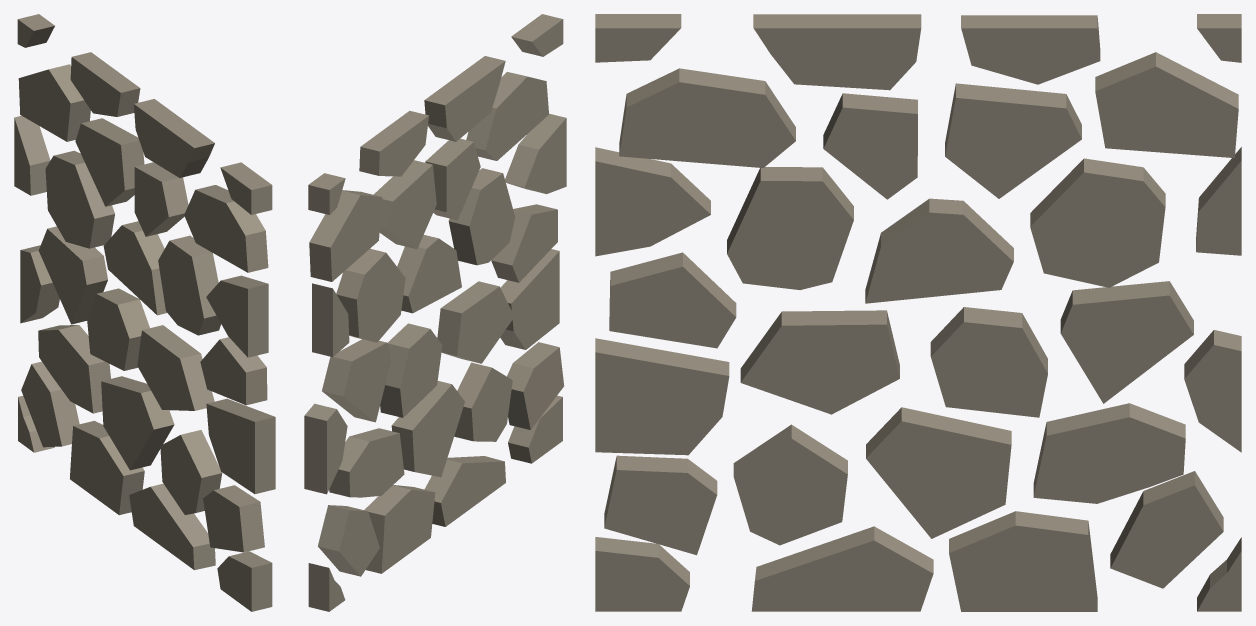
File: WallRocks.glb
3 renders of one model, left to right at view 1: azimuth 30°, elevation 25°; view 2: azimuth 150°, elevation 25°; view 3: azimuth 270°, elevation 25°, orthographic. The views are drawn at different scales.
Parts seen in each view (by area): view 1: WallRocks; view 2: WallRocks; view 3: WallRocks.
Part boxes in pixels (x1,y1,x2,y2): WallRocks: (14,14,275,611); WallRocks: (304,14,566,611); WallRocks: (595,14,1241,611).
Size of the model in its own units: 0.0744 by 0.9964 by 1.
